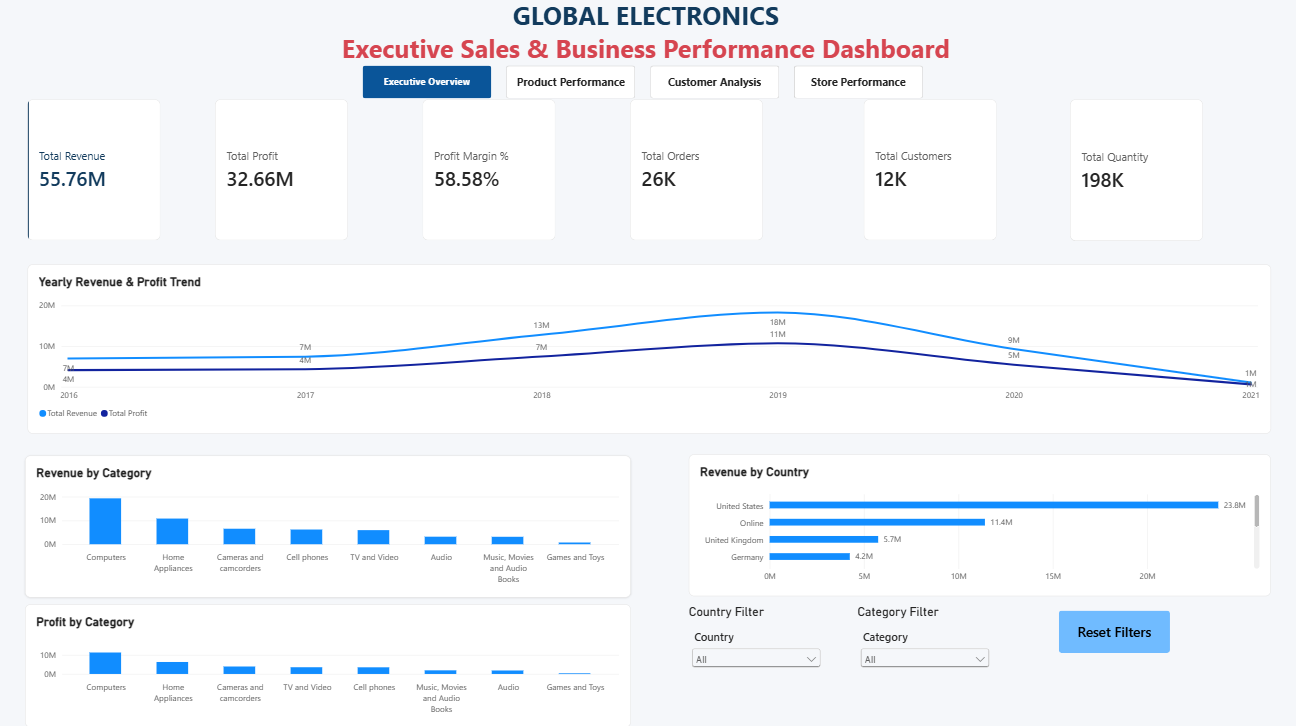

The page's visual inventory and layout, read from the dashboard file:
{"tool":"powerbi","page":{"name":"Executive Overview","canvas":[1920,1080],"ordinal":0},"visuals":[{"type":"cardVisual","fields":{"Data":["_All_Measures.Total Revenue"]},"box":[41.2,149.6,197.6,209.9],"z":0},{"type":"cardVisual","fields":{"Data":["_All_Measures.Total Profit"]},"box":[318.6,149.6,197,209.9],"z":1000},{"type":"cardVisual","fields":{"Data":["_All_Measures.Total Orders"]},"box":[934.2,149.6,197,209.9],"z":2000},{"type":"cardVisual","fields":{"Data":["_All_Measures.Total Customers"]},"box":[1278.8,149.6,197,209.9],"z":3000},{"type":"cardVisual","fields":{"Data":["_All_Measures.Profit Margin %"]},"box":[626.4,149.6,197,209.9],"z":4000},{"type":"textbox","box":[28.8,0,1854.6,150.3],"z":5000},{"type":"lineChart","title":"Yearly Revenue & Profit Trend","fields":{"Category":["global_electronics sales.Order_Date.Variation.Date Hierarchy.Year","global_electronics sales.Order_Date.Variation.Date Hierarchy.Month"],"Y":["_All_Measures.Total Revenue","_All_Measures.Total Profit"]},"box":[41.2,394.5,1842.4,251.4],"z":6000},{"type":"clusteredColumnChart","title":"Revenue by Category","fields":{"Category":["global_electronics products.Category"],"Y":["_All_Measures.Total Revenue"]},"box":[36.8,678.4,897.4,210.3],"z":7000},{"type":"clusteredBarChart","title":"Revenue by Country","fields":{"Category":["global_electronics stores.Country"],"Y":["_All_Measures.Total Revenue"]},"box":[1020.9,676.3,862.7,210.3],"z":8000},{"type":"clusteredColumnChart","title":"Profit by Category","fields":{"Category":["global_electronics products.Category"],"Y":["_All_Measures.Total Profit"]},"box":[36.8,897.4,897.4,182.1],"z":9000},{"type":"slicer","title":"Country Filter","fields":{"Values":["global_electronics stores.Country"]},"box":[1020.9,897.4,200,100],"z":10000},{"type":"slicer","title":"Category Filter","fields":{"Values":["global_electronics products.Category"]},"box":[1270.2,897.4,200,100],"z":11000},{"type":"cardVisual","fields":{"Data":["_All_Measures.Total Quantity"]},"box":[1584.5,149.6,197,210.3],"z":12000},{"type":"pageNavigator","box":[537.5,99.7,832.3,49.9],"z":13000},{"type":"actionButton","box":[1569.3,908.2,164.7,62.9],"z":19000}]}

Visuals, with their boxes in screenshot pixels (x1, y1, x2, y2), scaled from the page's 1920x1080 canvas onto the 1296x726 screenshot:
cardVisual - _All_Measures.Total Revenue: crop(28, 101, 161, 242)
cardVisual - _All_Measures.Total Profit: crop(215, 101, 348, 242)
cardVisual - _All_Measures.Total Orders: crop(631, 101, 764, 242)
cardVisual - _All_Measures.Total Customers: crop(863, 101, 996, 242)
cardVisual - _All_Measures.Profit Margin %: crop(423, 101, 556, 242)
textbox: crop(19, 0, 1271, 101)
"Yearly Revenue & Profit Trend" lineChart: crop(28, 265, 1271, 434)
"Revenue by Category" clusteredColumnChart: crop(25, 456, 631, 597)
"Revenue by Country" clusteredBarChart: crop(689, 455, 1271, 596)
"Profit by Category" clusteredColumnChart: crop(25, 603, 631, 725)
"Country Filter" slicer: crop(689, 603, 824, 670)
"Category Filter" slicer: crop(857, 603, 992, 670)
cardVisual - _All_Measures.Total Quantity: crop(1070, 101, 1203, 242)
pageNavigator: crop(363, 67, 925, 101)
actionButton: crop(1059, 611, 1170, 653)
